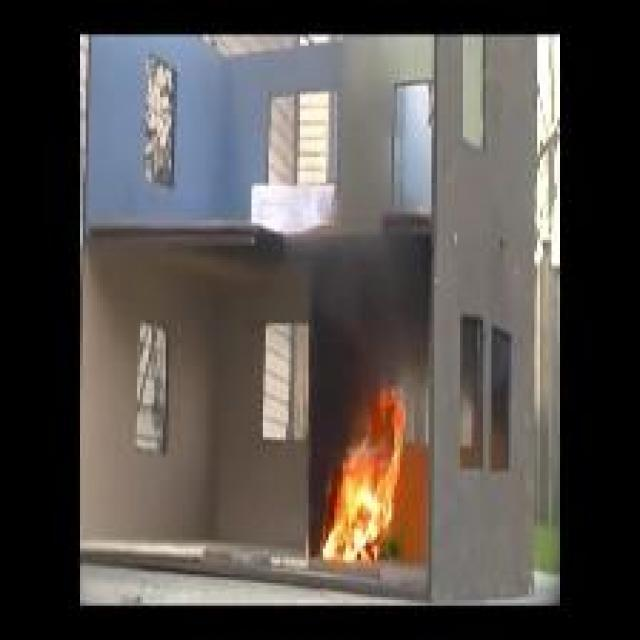Fire: (320, 386, 403, 563)
